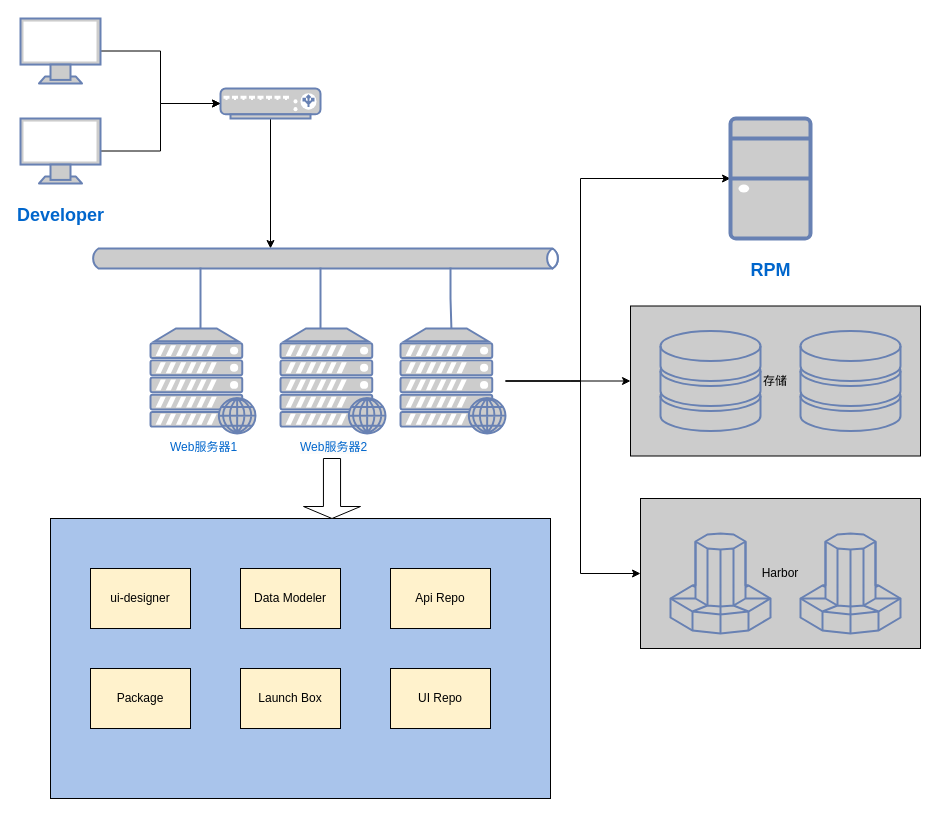
This 938x816 diagram has some shape labels left out. The centre of each missing label's shape, as x and y in pixels:
HA/F5: (x=270, y=103)
Web服务器3: (x=452, y=380)
